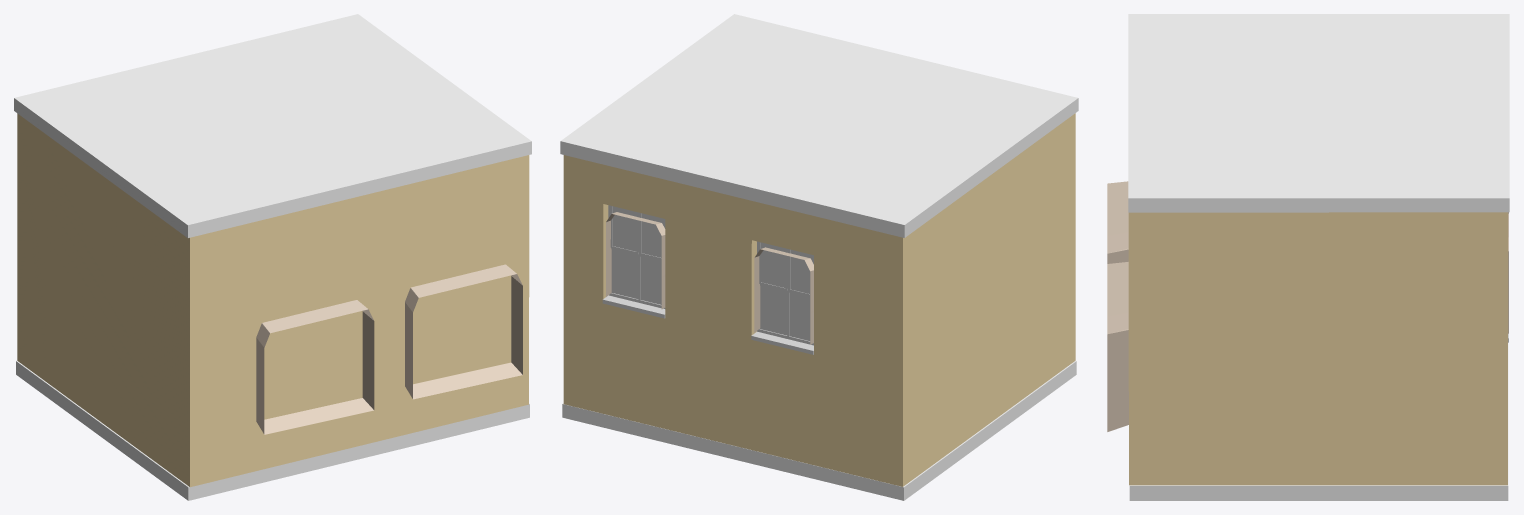
Rendered from FloorPlan4_physics.fbx.
3 renders of one model, left to right at view 1: azimuth 30°, elevation 25°; view 2: azimuth 150°, elevation 25°; view 3: azimuth 270°, elevation 25°, orthographic. The views are drawn at different scales.
Parts seen in each view (by area): view 1: Wall, Ceiling.006, Floor.007, Baseboard.030, Baseboard.029; view 2: Wall, Ceiling.006, Floor.007, WindowGlass1, WindowGlass2, WindowPane2, WindowPane1, Baseboard.029, Baseboard.030; view 3: Wall, Ceiling.006, Floor.007, Baseboard.029, Baseboard.030.
Boxes of the visible parts, bbox=[...] form: Wall: bbox=[17, 113, 529, 487]; Ceiling.006: bbox=[14, 14, 531, 237]; Floor.007: bbox=[16, 360, 529, 500]; Baseboard.030: bbox=[256, 300, 374, 434]; Baseboard.029: bbox=[405, 264, 522, 399]; Wall: bbox=[563, 113, 1075, 486]; Ceiling.006: bbox=[560, 14, 1078, 237]; Floor.007: bbox=[562, 361, 1076, 500]; WindowGlass1: bbox=[760, 242, 813, 340]; WindowGlass2: bbox=[611, 206, 665, 304]; WindowPane2: bbox=[602, 205, 665, 318]; WindowPane1: bbox=[751, 241, 813, 354]; Baseboard.029: bbox=[606, 212, 665, 309]; Baseboard.030: bbox=[754, 247, 813, 344]; Wall: bbox=[1128, 212, 1507, 485]; Ceiling.006: bbox=[1128, 14, 1509, 212]; Floor.007: bbox=[1129, 343, 1508, 500]; Baseboard.029: bbox=[1107, 213, 1508, 431]; Baseboard.030: bbox=[1107, 181, 1508, 263].
Bounding box in the file's own units: 432 × 332 × 399.
